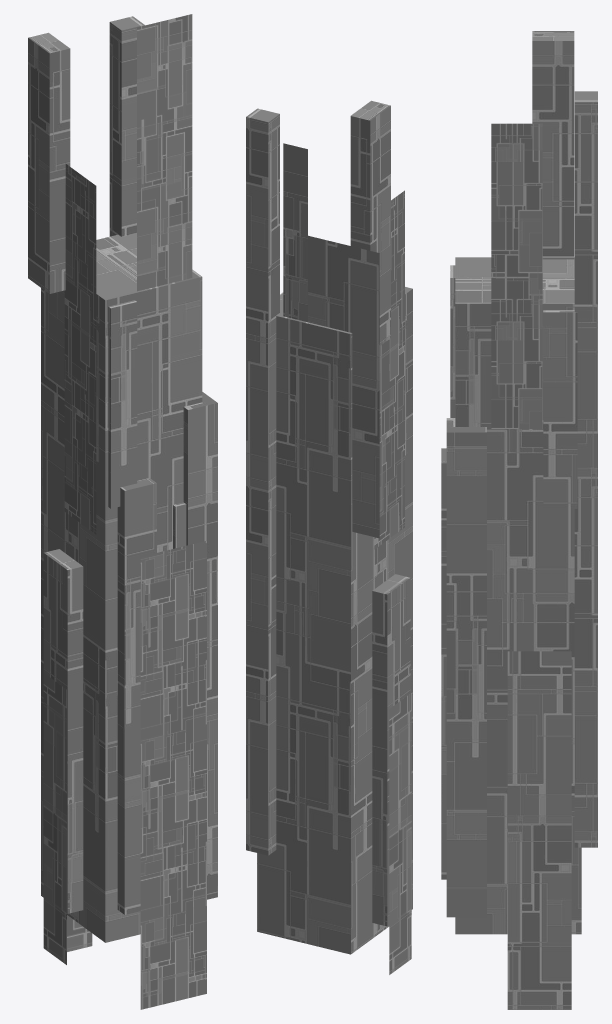
File: SM_architecture_module_04.glb
3 views of the same model, side by side, from view 1: azimuth 30°, elevation 25°; view 2: azimuth 150°, elevation 25°; view 3: azimuth 270°, elevation 25° (orthographic). The views are drawn at different scales.
Visible parts, largest first — view 1: SM_architecture_module_04; view 2: SM_architecture_module_04; view 3: SM_architecture_module_04.
Part boxes in pixels (box(x1,y1,x2,y2)): SM_architecture_module_04: box(28, 14, 217, 1009); SM_architecture_module_04: box(246, 100, 412, 974); SM_architecture_module_04: box(441, 31, 597, 1009).
Size of the model in its own units: 1.54 by 10.61 by 1.56.
2 materials, 2 textured.
